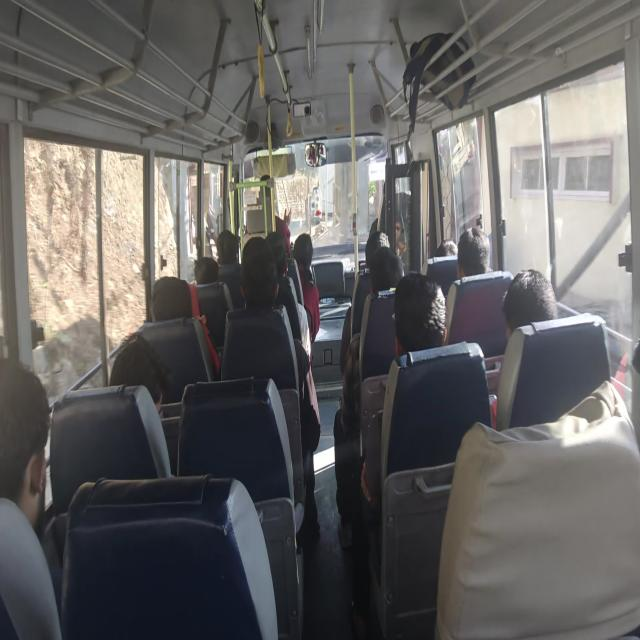person: (0, 368, 68, 536), (104, 337, 161, 420), (507, 280, 561, 356), (392, 276, 440, 351), (240, 245, 274, 320), (156, 267, 194, 327), (454, 221, 495, 275), (368, 248, 400, 297), (214, 226, 247, 266), (288, 234, 314, 276), (193, 246, 218, 287), (369, 226, 395, 264), (264, 236, 288, 277), (437, 237, 464, 264)
